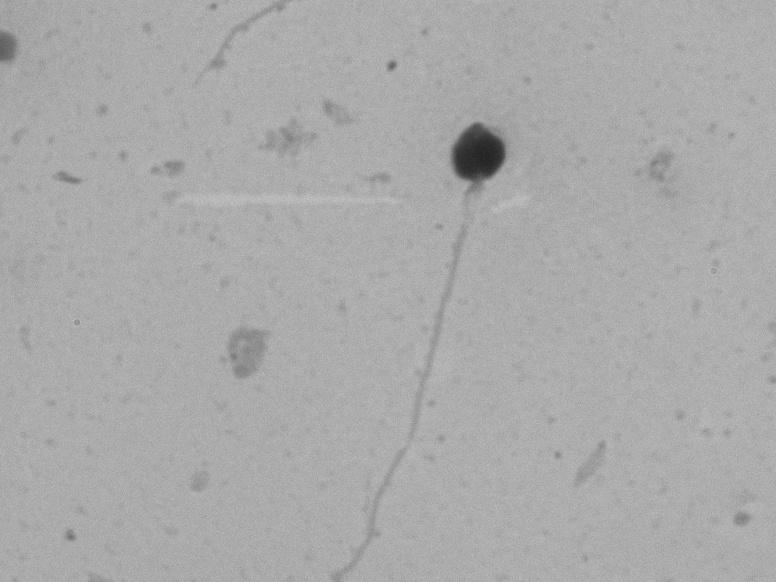Abnormal: (326, 76, 546, 548)
